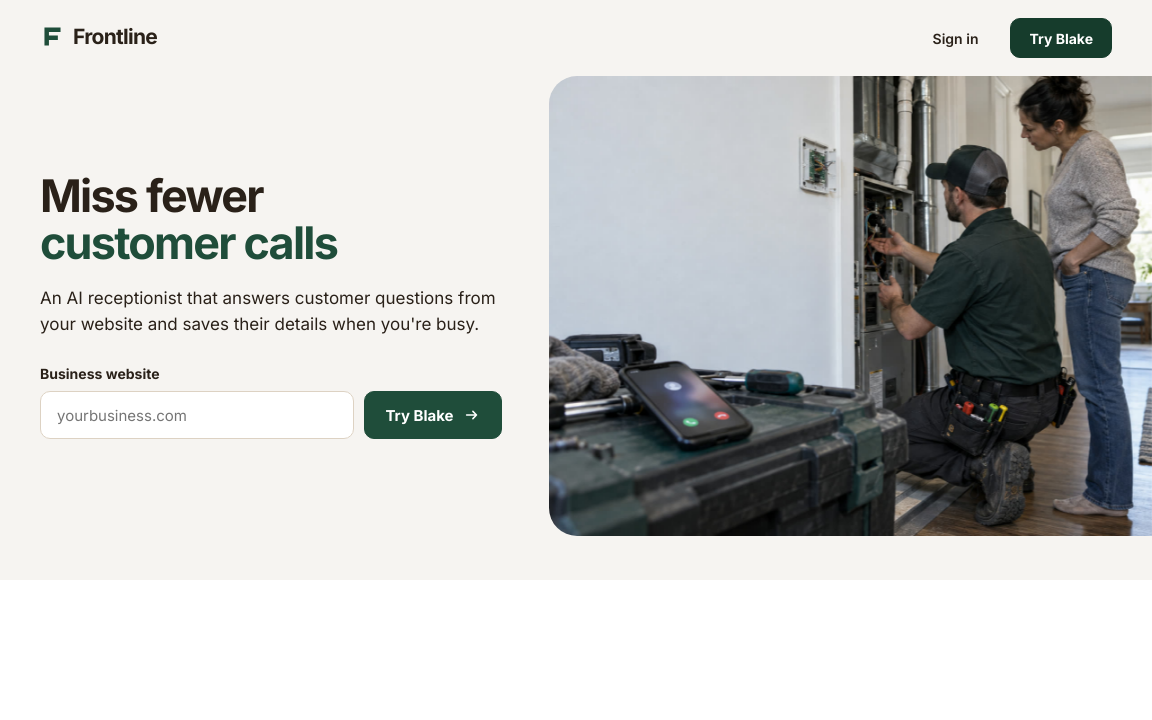
Test: shows the sourced profile returned by the scoped preparation API
The width and height of the screenshot is (1152, 720).
Type "example.com" into the field labelled "Business website" at (197, 415), box [40,391,354,439]
Then press Enter
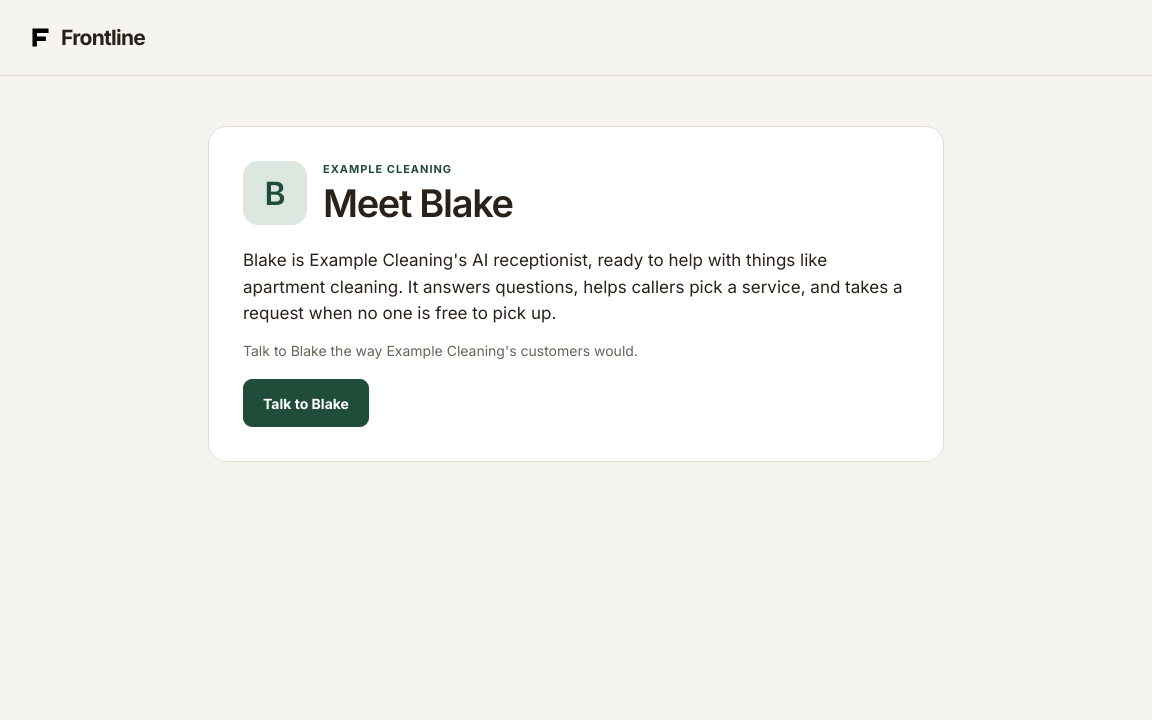
Check: the heading "Meet Blake" is shown, box [323,183,513,225]
Check: the text "Example Cleaning" is shown, box [323,162,452,176]
Check: the text "ready to help with things like apartment cleaning" is shown, box [243,250,827,297]
